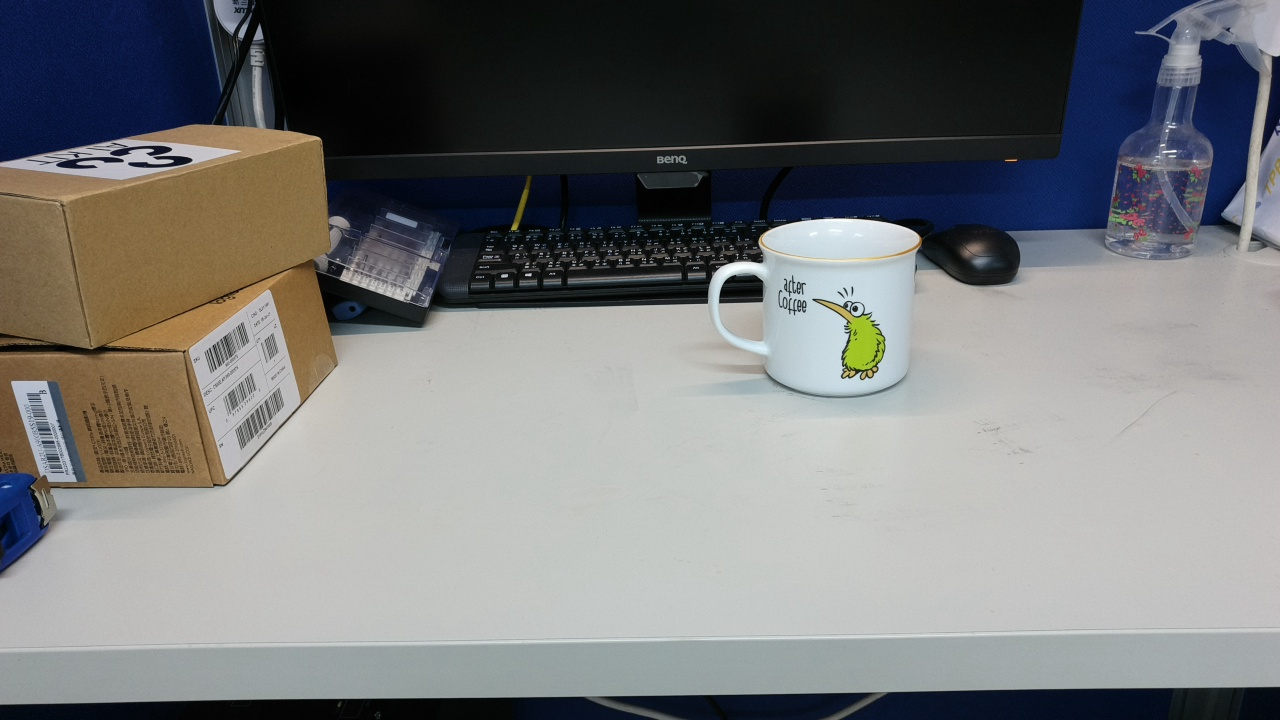circle: (921, 505, 1102, 644)
